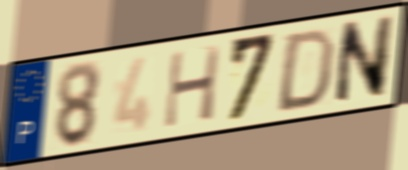4: (110, 53, 156, 137)
7: (226, 31, 277, 126)
8: (53, 59, 103, 150)
D: (272, 26, 338, 115)
H: (161, 42, 224, 131)
N: (332, 12, 397, 109)
